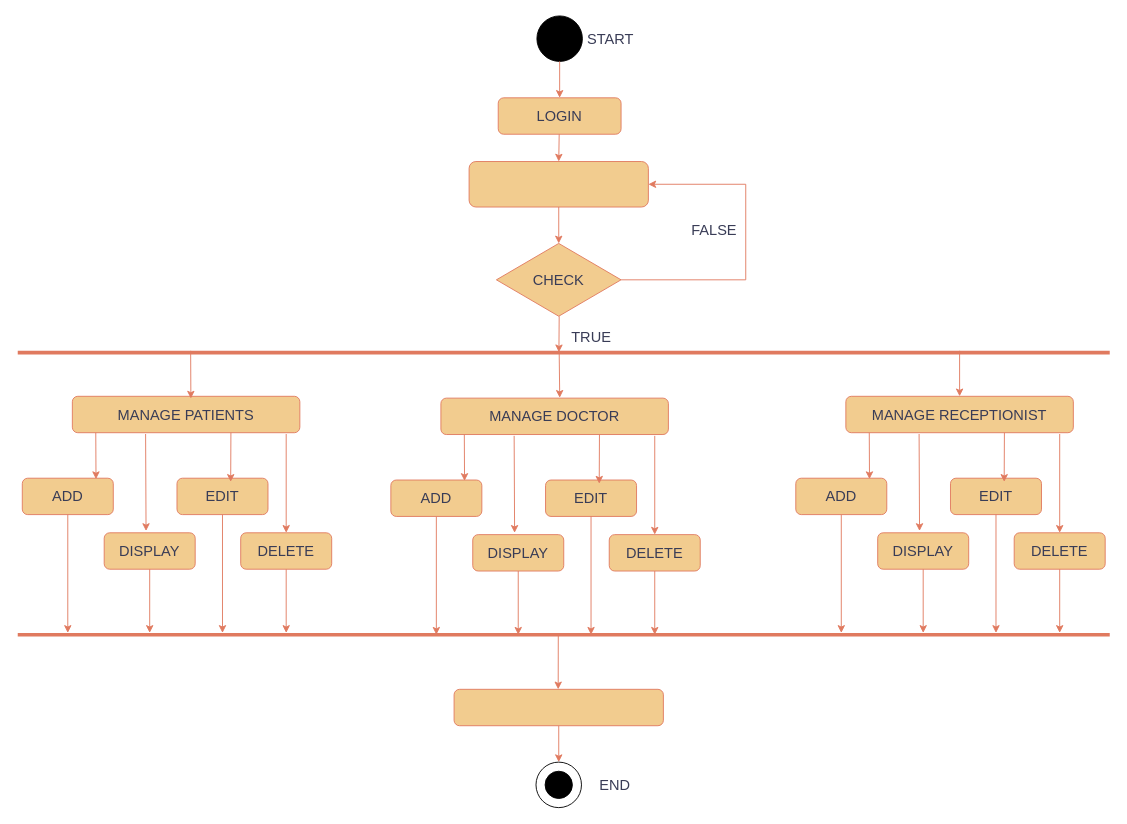
Some shapes in this 1127 by 824 pixel diagram are drawn without their labels. Each missing label, with the centre of its shape:
"AUTHENTICATION" belongs at (x=558, y=184).
"LOGOUT" belongs at (x=558, y=707).
